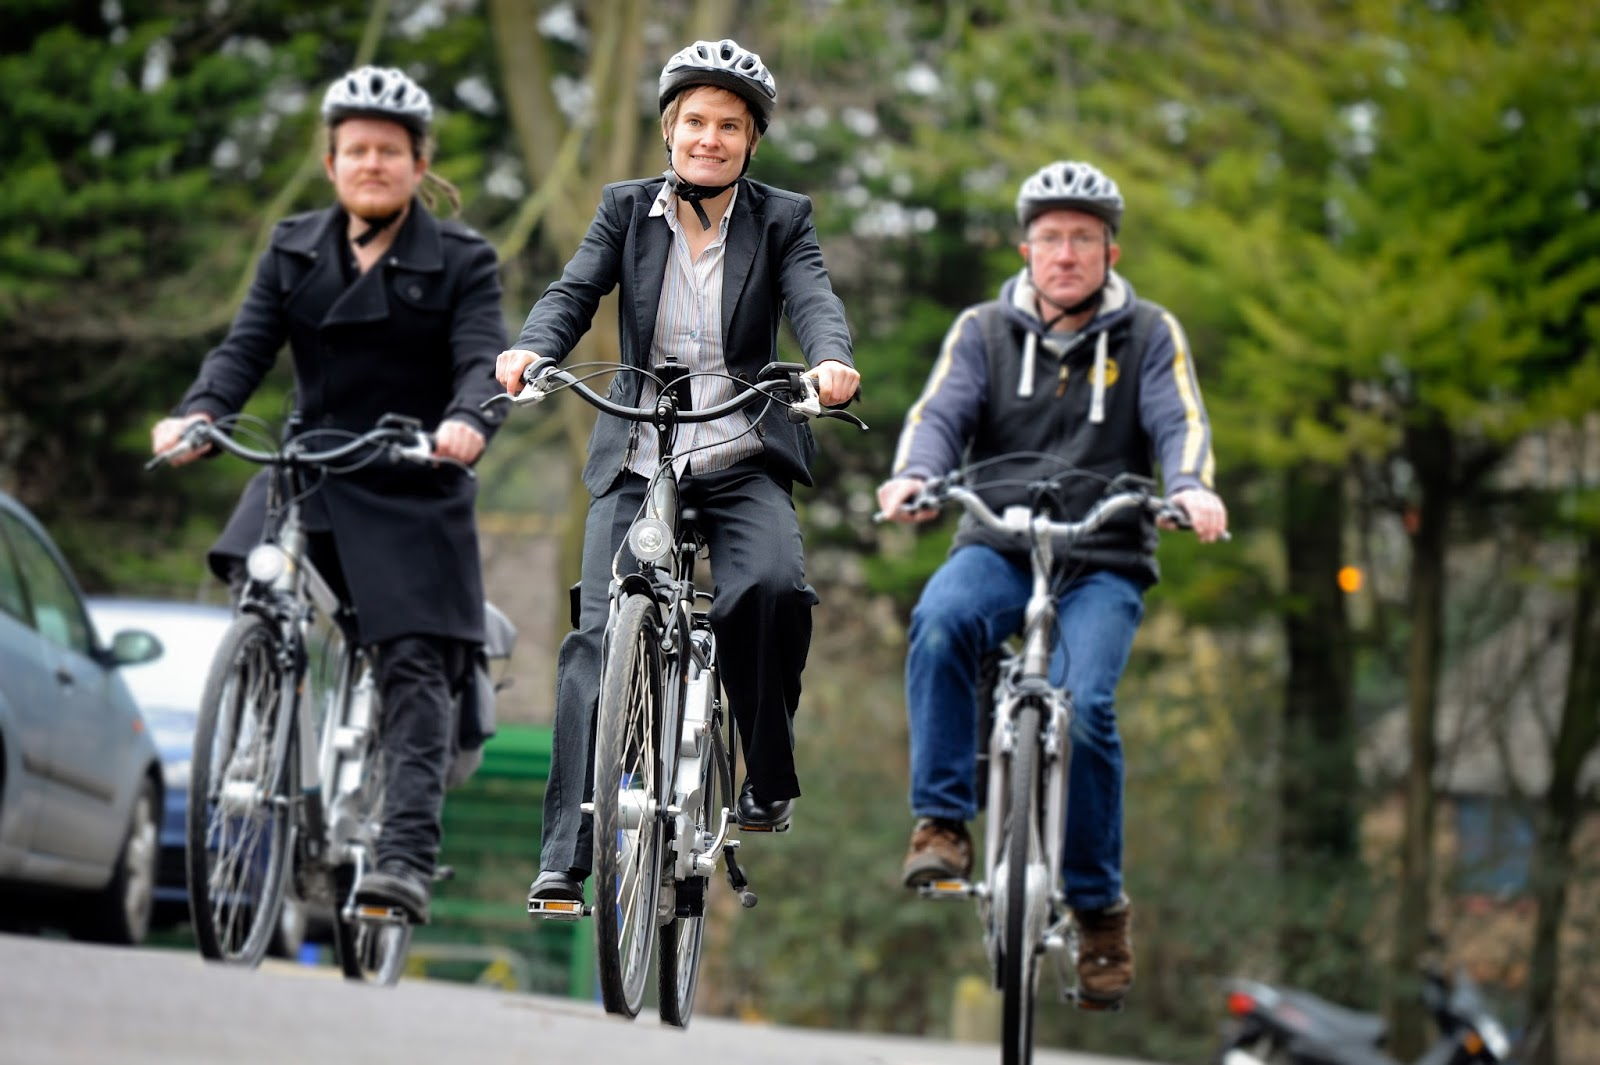with_helmet: (656, 37, 785, 115), (321, 59, 437, 122), (1010, 162, 1132, 216)
